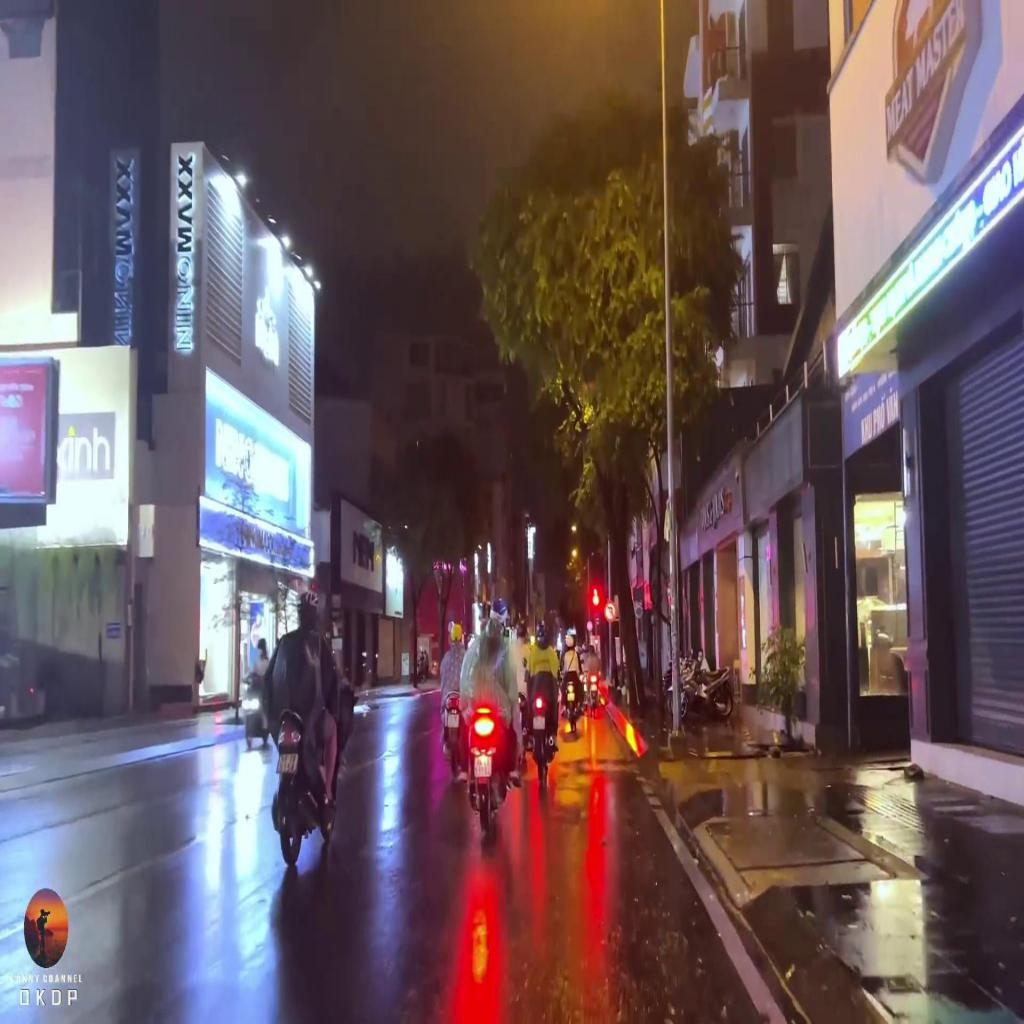cam_re_trai: (603, 600, 617, 623)
